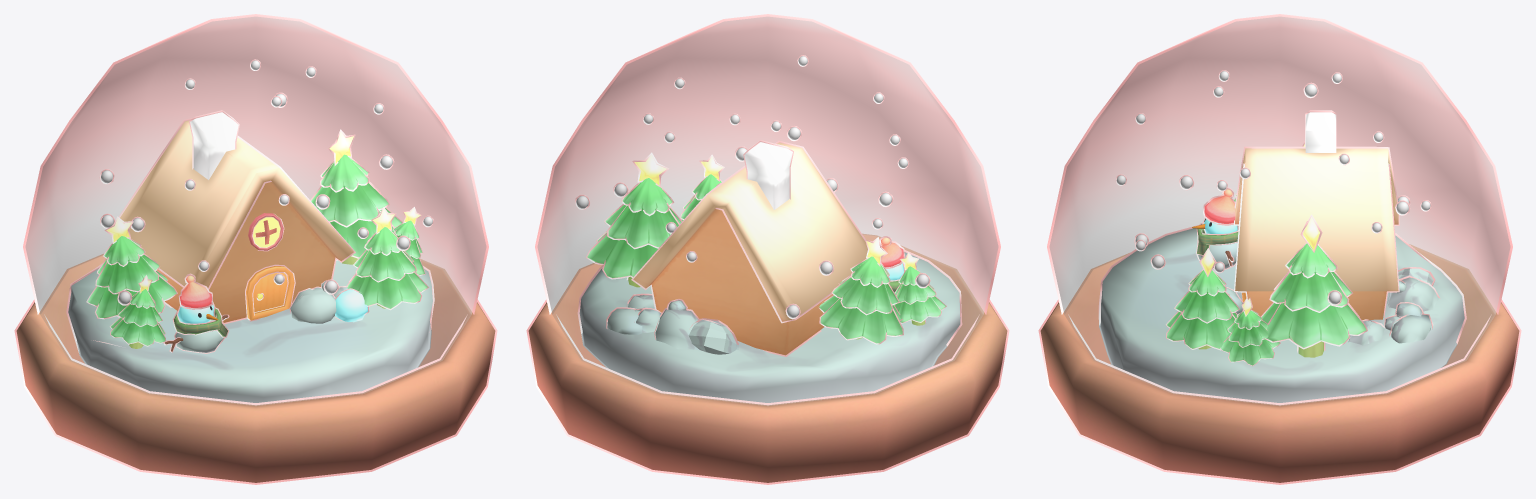
Rendered from cute_snow_globe.glb.
3 views of the same model, side by side, from view 1: azimuth 30°, elevation 25°; view 2: azimuth 150°, elevation 25°; view 3: azimuth 270°, elevation 25° (orthographic).
Parts seen in each view (by area): view 1: Sphere_2, Circle_0, Island_1, Plane_7, Circle.007_56, Circle.003_52, Circle.020_60, Cube_4, Circle.018_58, Sphere.011_17, Cube.001_5, Circle.001_3 (+7 smaller); view 2: Sphere_2, Circle_0, Plane_7, Island_1, Circle.007_56, Circle.020_60, Cube_4, Circle.018_58, Sphere.009_13, Sphere.007_14, Sphere.008_12, Circle.006_55 (+2 smaller); view 3: Sphere_2, Circle_0, Island_1, Plane_7, Circle.007_56, Circle.003_52, Circle.005_54, Cube_4, Sphere.009_13, Sphere.008_12, Circle.011_45, Circle.010_44 (+1 smaller).
Boxes of the visible parts, <box> form: Sphere_2: <box>23,14,488,405</box>; Circle_0: <box>14,254,497,484</box>; Island_1: <box>66,260,434,402</box>; Plane_7: <box>119,117,355,324</box>; Circle.007_56: <box>310,154,403,264</box>; Circle.003_52: <box>346,227,428,310</box>; Circle.020_60: <box>86,236,177,319</box>; Cube_4: <box>189,110,239,179</box>; Circle.018_58: <box>109,289,166,348</box>; Sphere.011_17: <box>289,286,336,323</box>; Cube.001_5: <box>245,264,295,321</box>; Circle.001_3: <box>248,213,284,251</box>; Sphere_2: <box>535,14,1000,405</box>; Circle_0: <box>526,233,1009,484</box>; Plane_7: <box>631,141,867,356</box>; Island_1: <box>577,250,962,402</box>; Circle.007_56: <box>585,178,681,287</box>; Circle.020_60: <box>818,256,903,344</box>; Cube_4: <box>743,140,793,209</box>; Circle.018_58: <box>894,266,946,325</box>; Sphere.009_13: <box>654,308,699,350</box>; Sphere.007_14: <box>688,318,738,354</box>; Sphere.008_12: <box>606,307,642,334</box>; Circle.006_55: <box>632,152,669,187</box>; Sphere_2: <box>1047,14,1512,405</box>; Circle_0: <box>1038,244,1521,484</box>; Island_1: <box>1098,225,1466,402</box>; Plane_7: <box>1234,146,1399,320</box>; Circle.007_56: <box>1261,242,1367,357</box>; Circle.003_52: <box>1165,269,1239,350</box>; Circle.005_54: <box>1220,310,1280,366</box>; Cube_4: <box>1305,110,1336,152</box>; Sphere.009_13: <box>1387,275,1440,311</box>; Sphere.008_12: <box>1389,313,1433,343</box>; Circle.011_45: <box>1203,187,1235,225</box>; Circle.010_44: <box>1196,223,1238,255</box>.
Size of the model in its own units: 29.48 by 23.66 by 29.48.
Materials: 21 (15 with a texture image).
